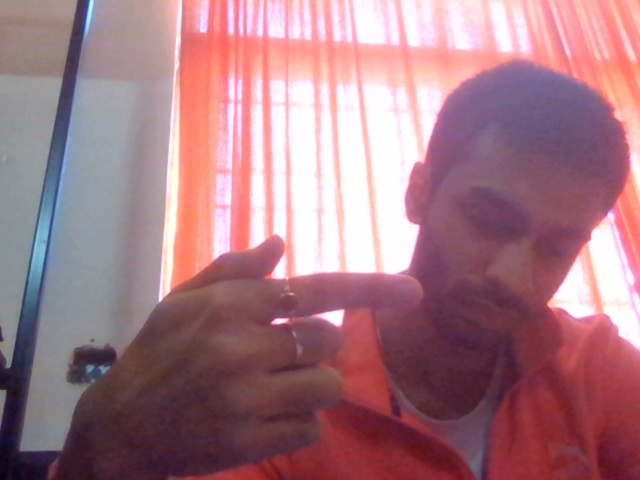G: (54, 189, 434, 480)
